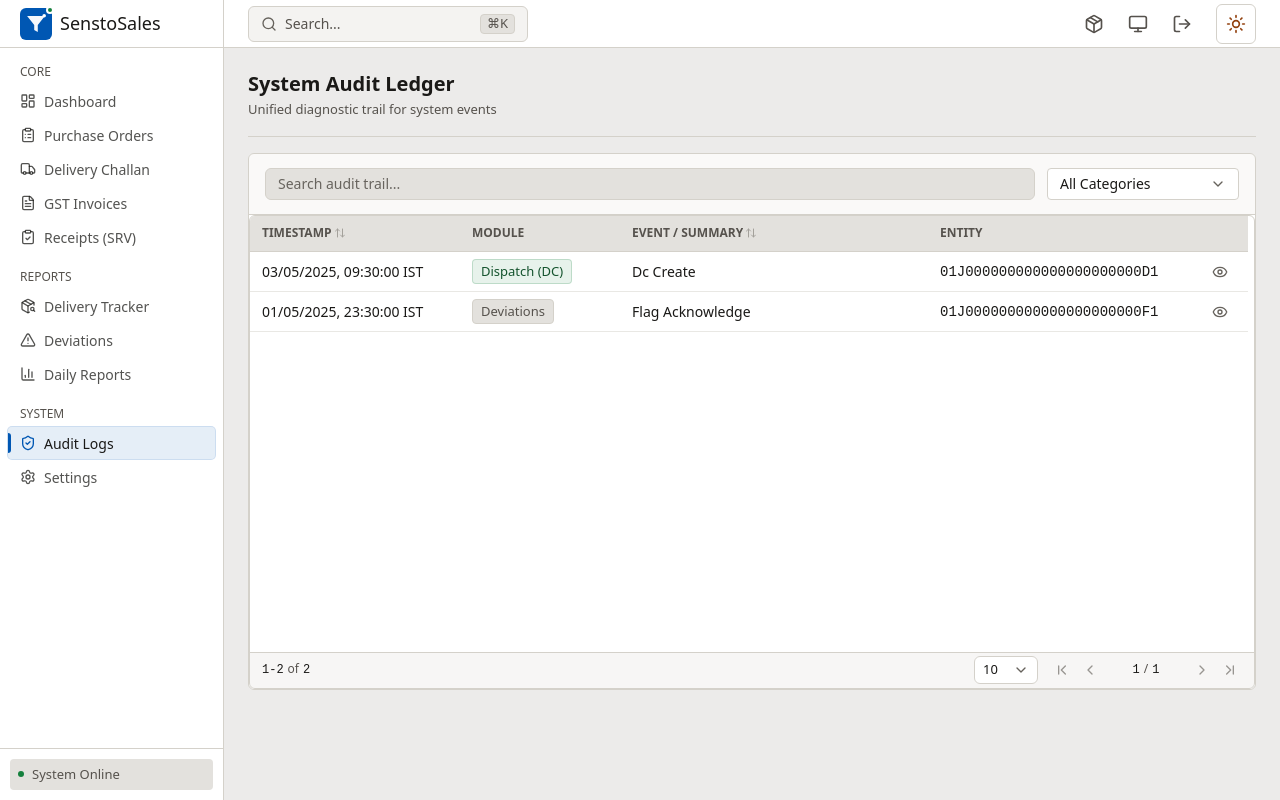
Test: system ledger (SPEC-17 PR 2) › opens a row's details with the changed values
Click the text "Flag Acknowledge" at (691, 312), box [620,292,928,332]
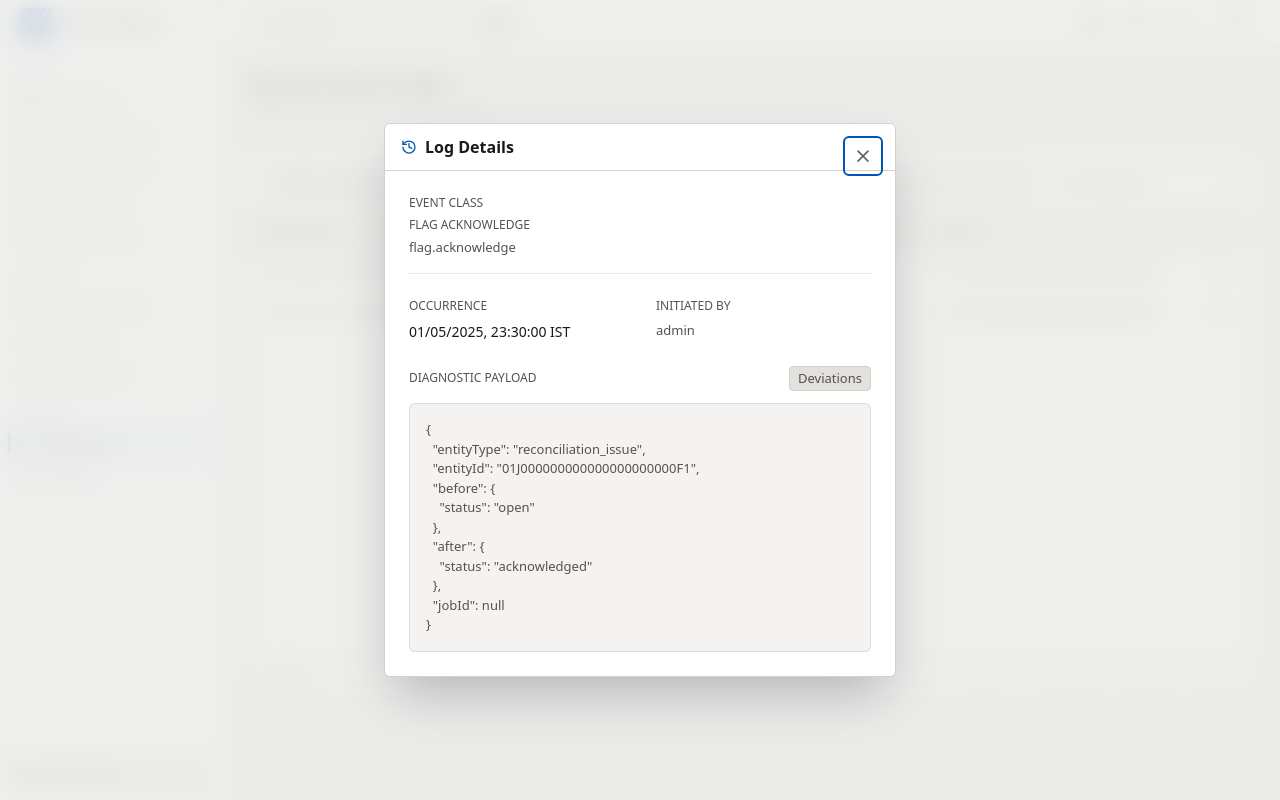
Now the text "flag.acknowledge" is shown, box [409,238,516,256]
Now the text "01/05/2025, 23:30:00 IST" is shown, box [409,322,570,341]
Now the text "admin" is shown, box [656,321,695,339]
